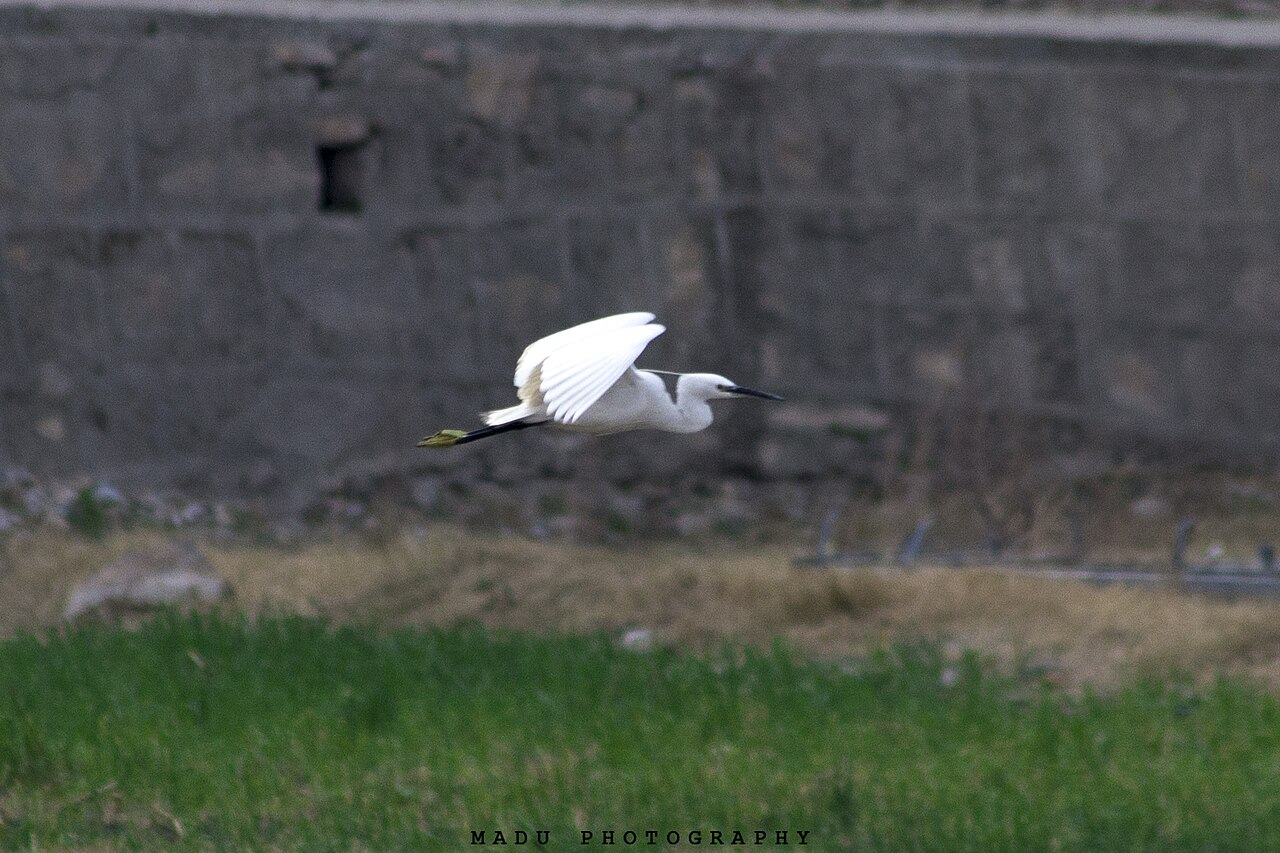bird: (413, 310, 786, 448)
